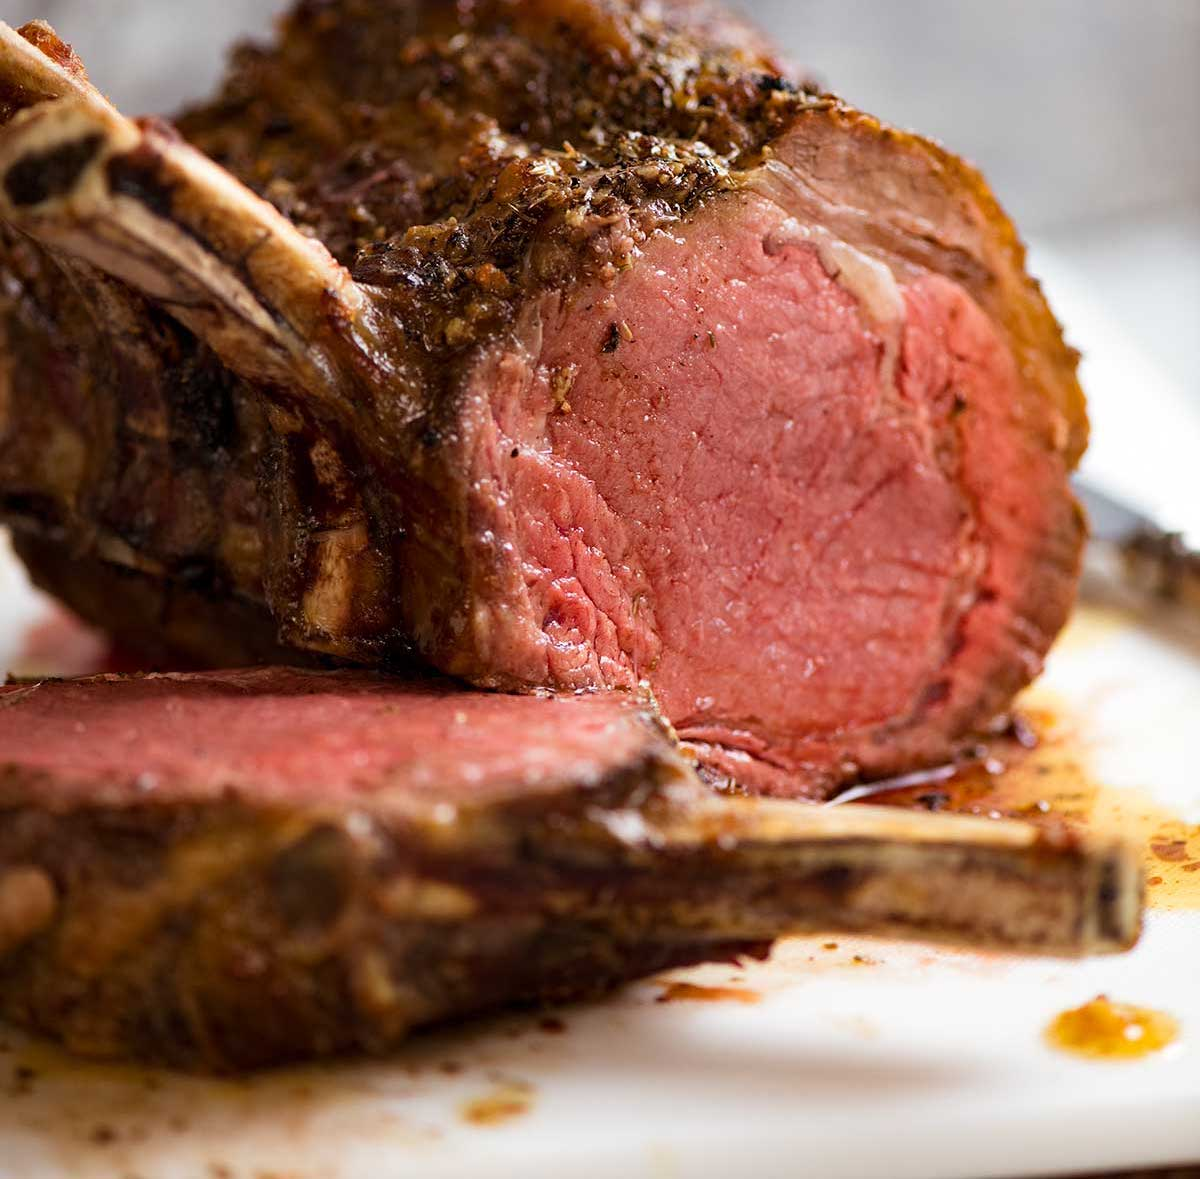prime_rib: (6, 8, 1200, 1117)
